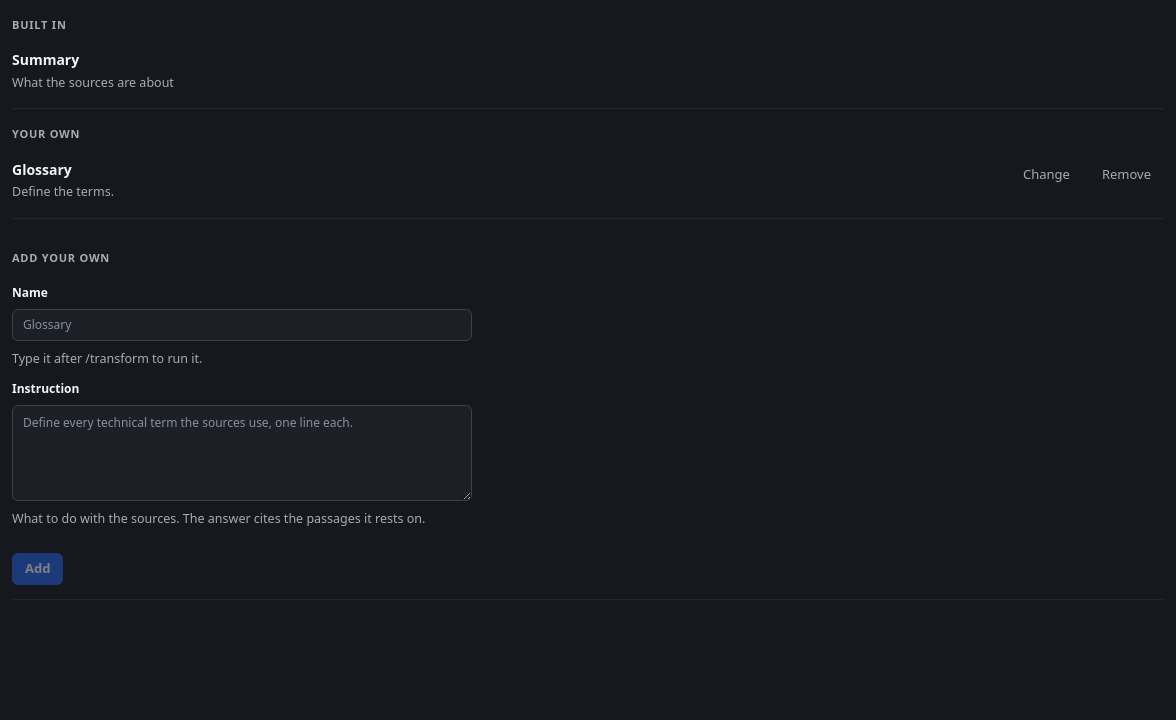
Test case: Settings › Transformations › asks before removing, and removes only when told to
The width and height of the screenshot is (1176, 720).
What coordinates should you click on to do the following:
click the button "Remove"
I would click on:
 (1126, 174)
Its box is [1089, 158, 1164, 190].
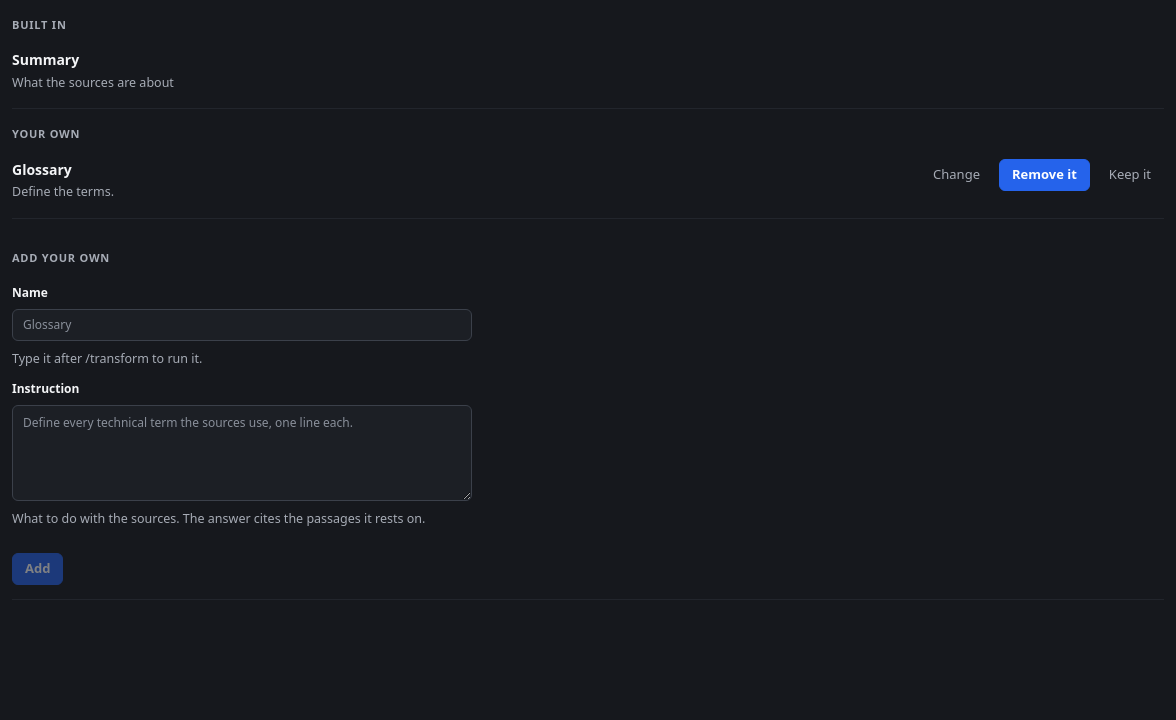
What coordinates should you click on to do the following:
click the button "Keep it"
I would click on:
 (1130, 174)
Its box is [1096, 158, 1164, 190].
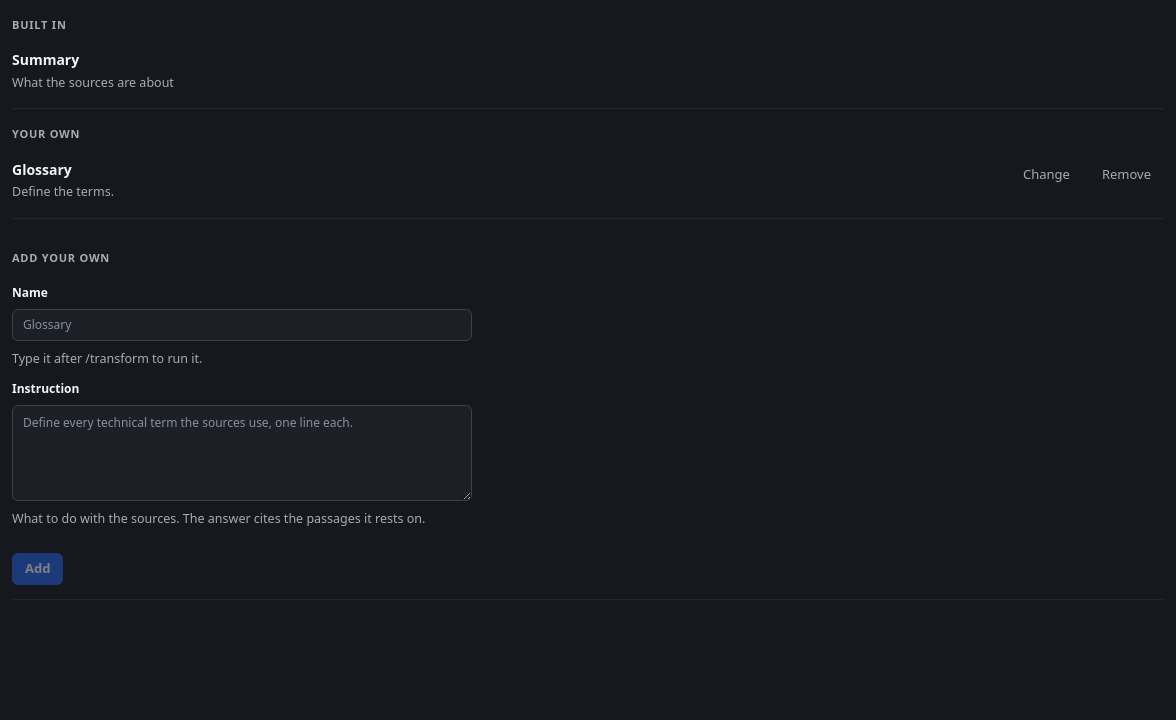
Now the button "Remove" is shown
What coordinates should you click on to do the following:
click the button "Remove"
I would click on:
 (1126, 174)
Its box is [1089, 158, 1164, 190].
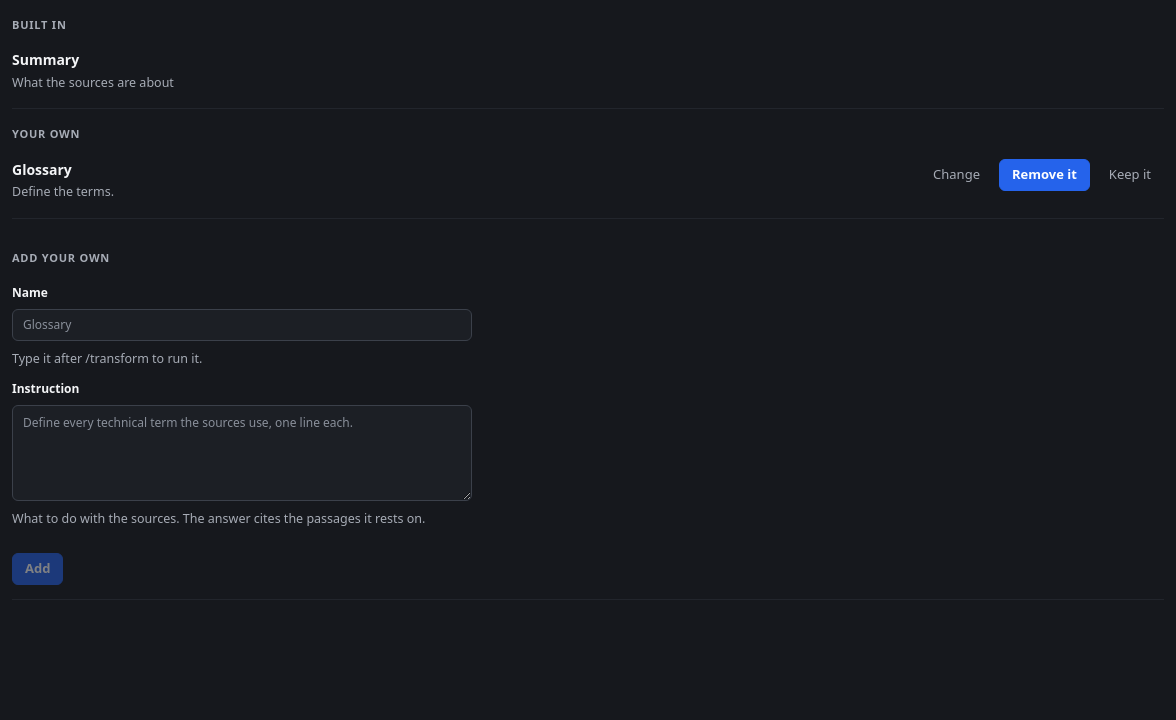
What coordinates should you click on to do the following:
click the button "Remove it"
I would click on:
 (1044, 174)
Its box is [999, 158, 1090, 190].
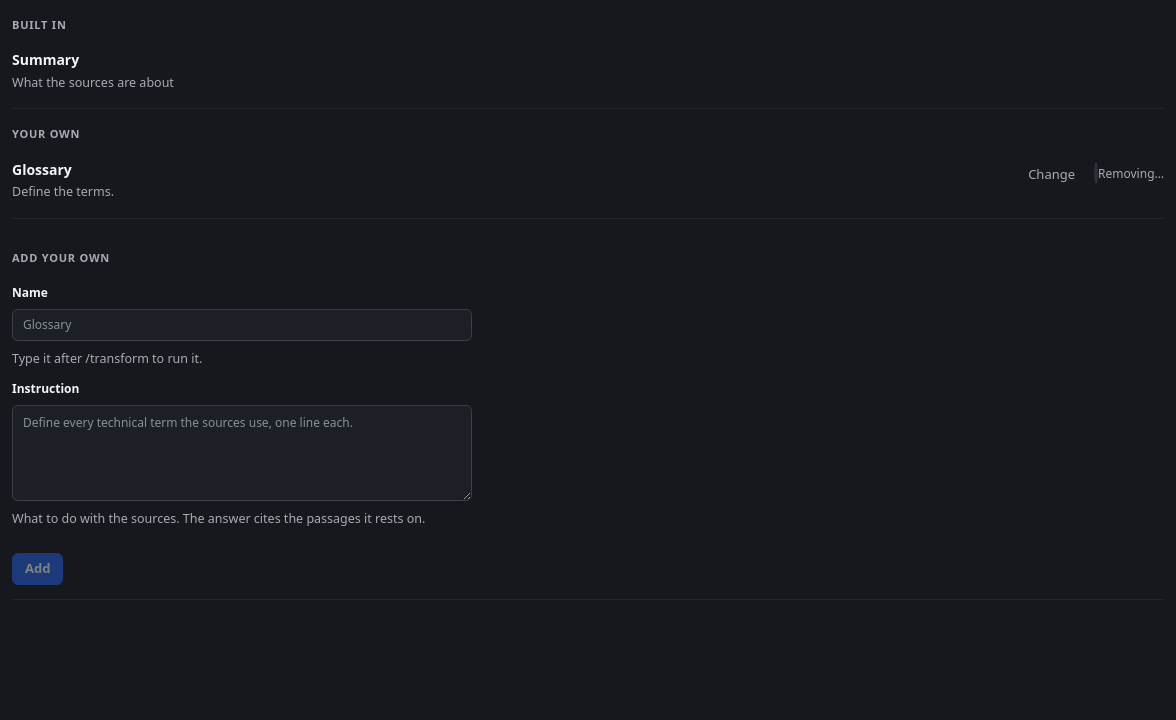
Now the message reads "Removing…", box [1098, 165, 1164, 182]
